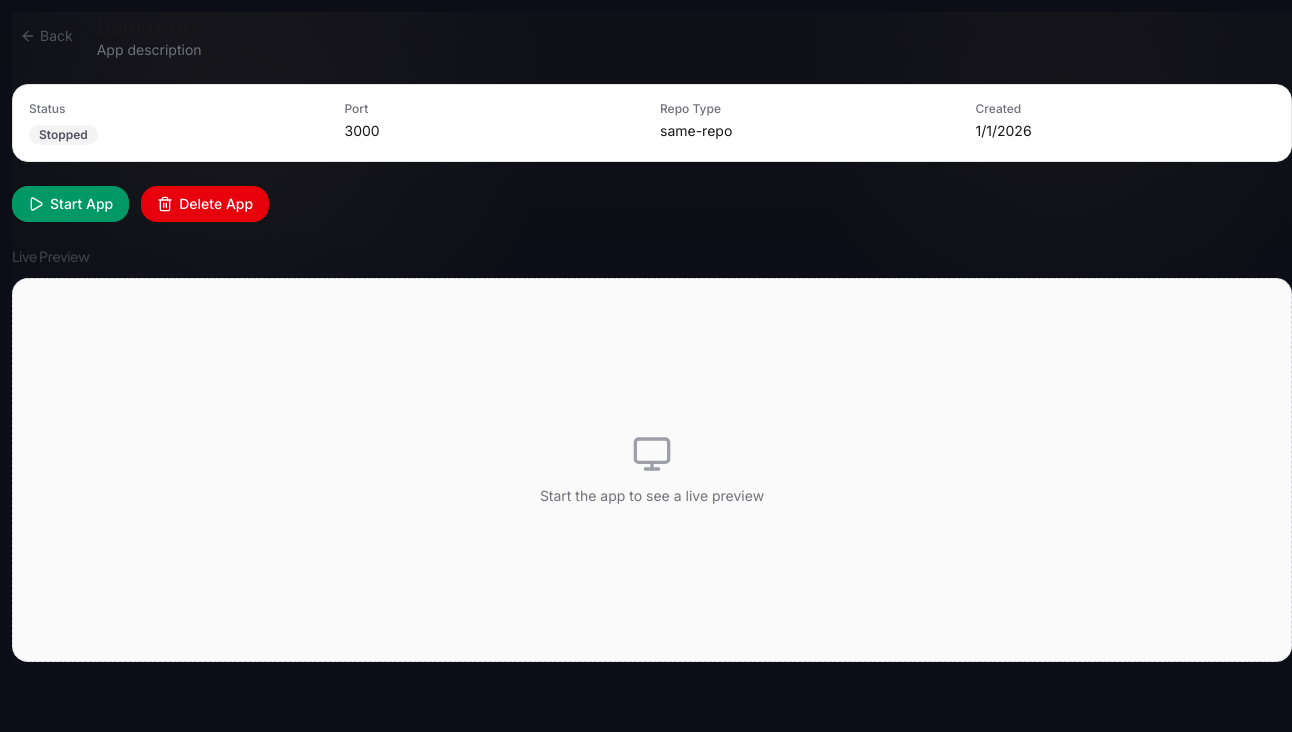
Test: AppDetailView › starts a stopped app and shows success feedback
Click the button with aria-label "Start app Demo App".
click(71, 204)  # box [12, 186, 129, 222]
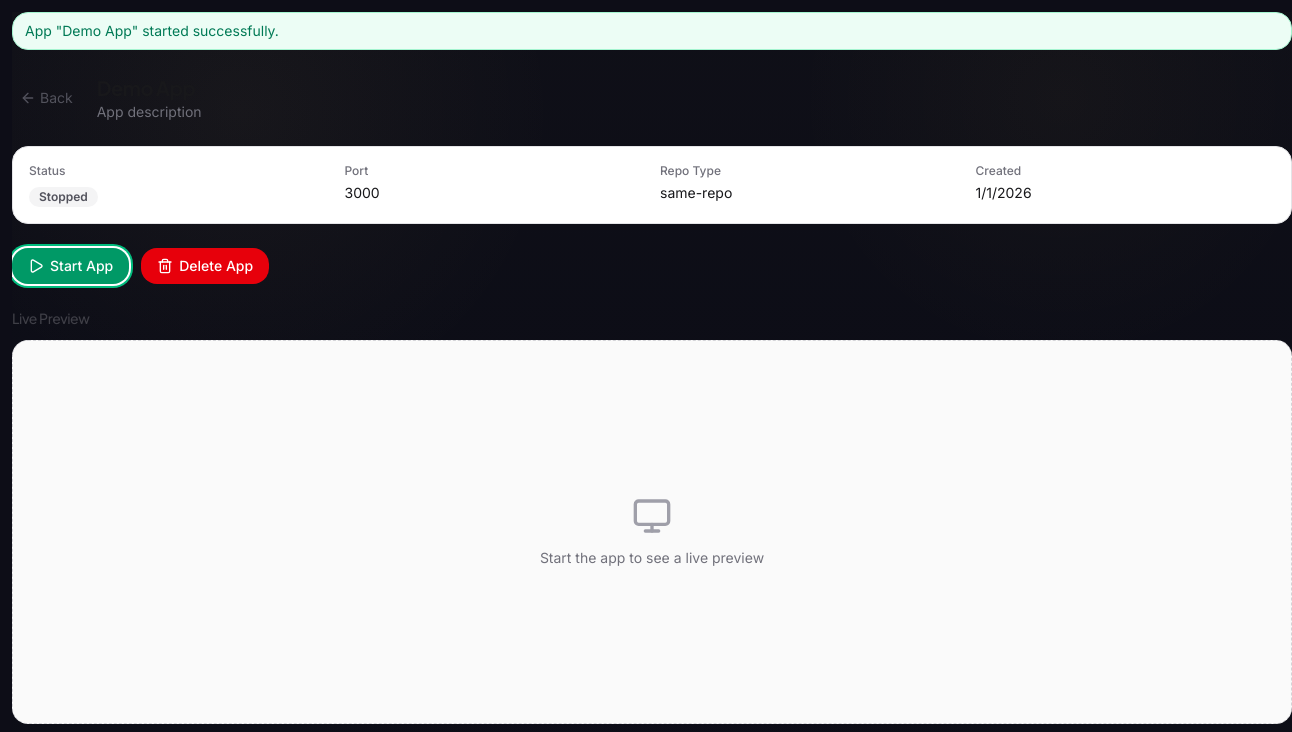
Expected: the message reads "App \"Demo App\" started successfully.", [25, 22, 279, 39]
